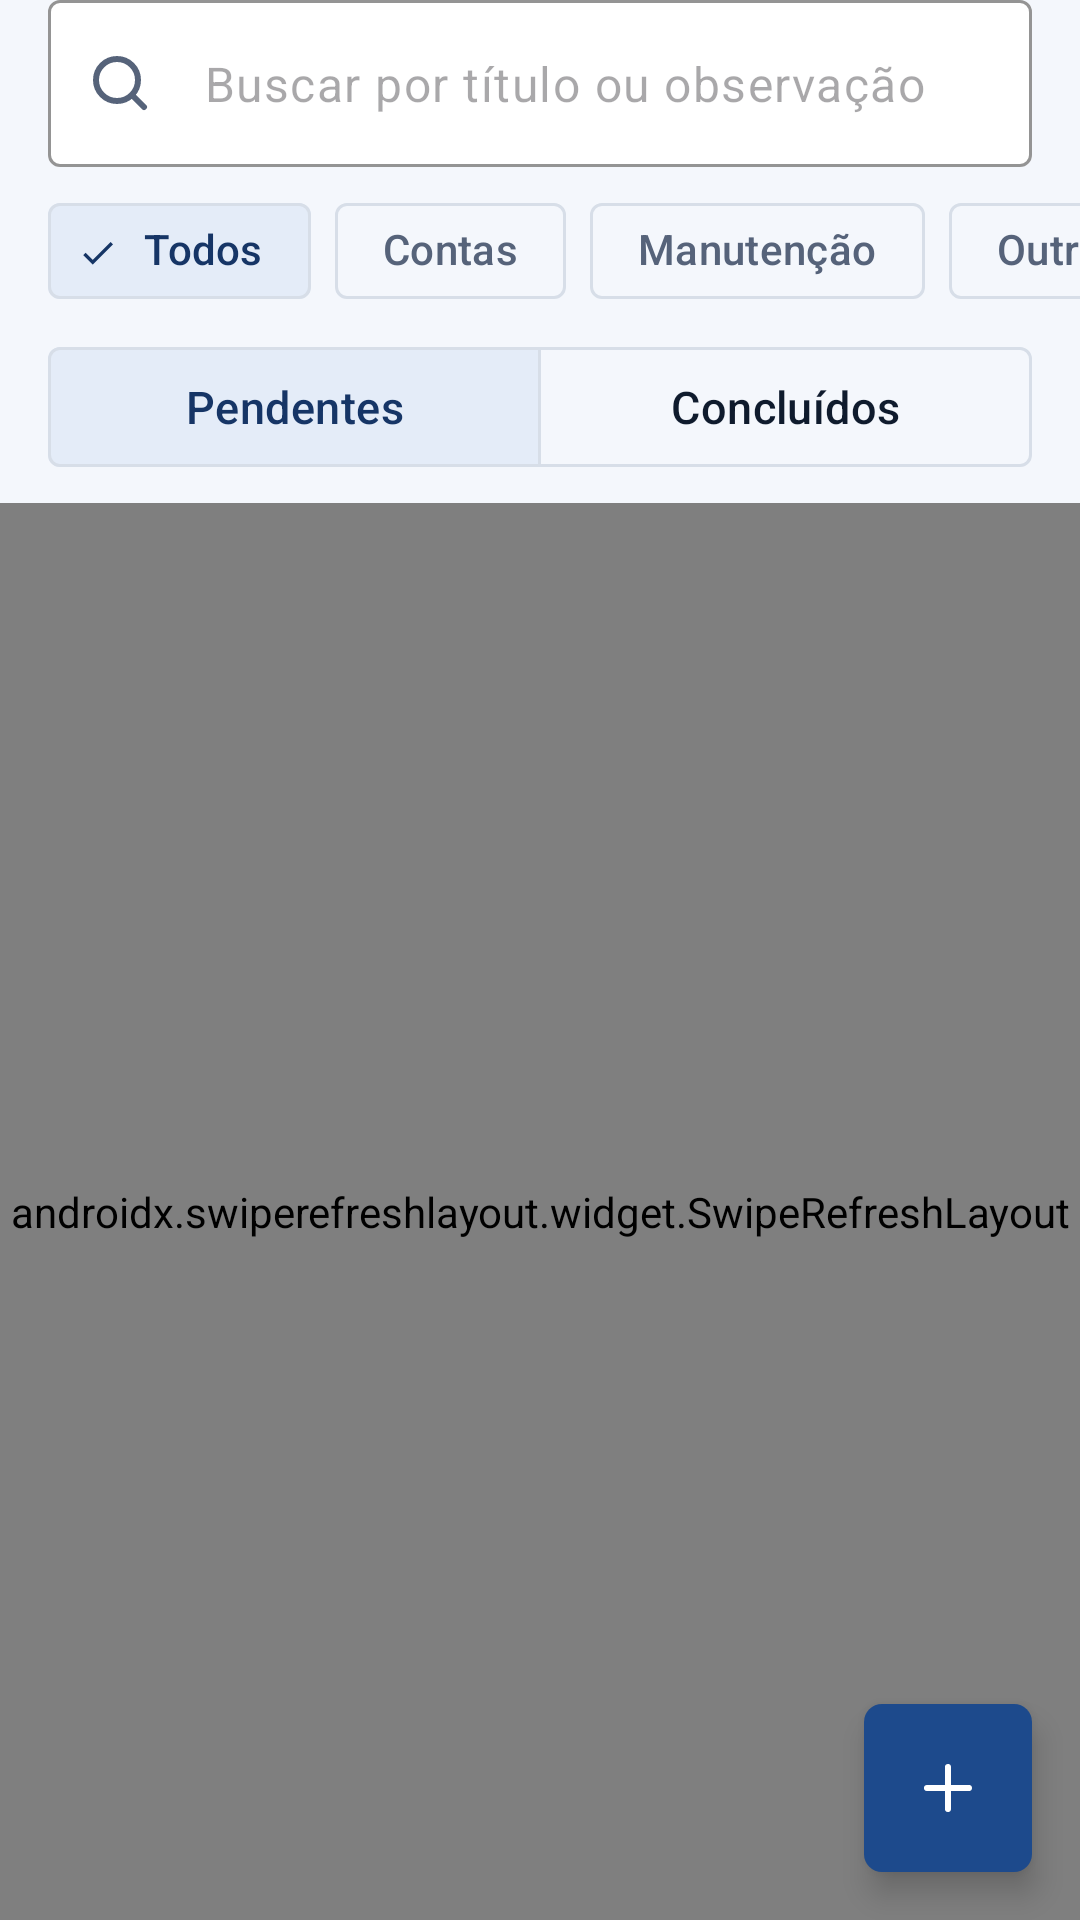

Named icons in this screenshot (1080*1920) and their centers, (x=x, y=y):
Novo lembrete: (x=948, y=1788)
